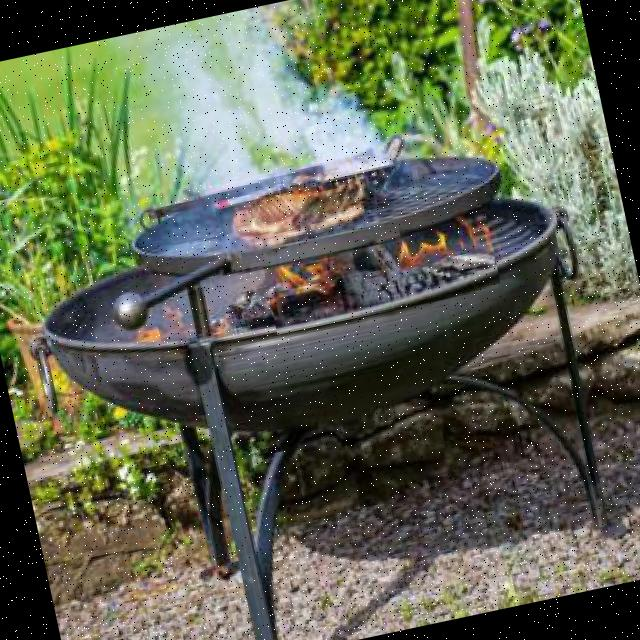fire: (260, 206, 501, 334)
